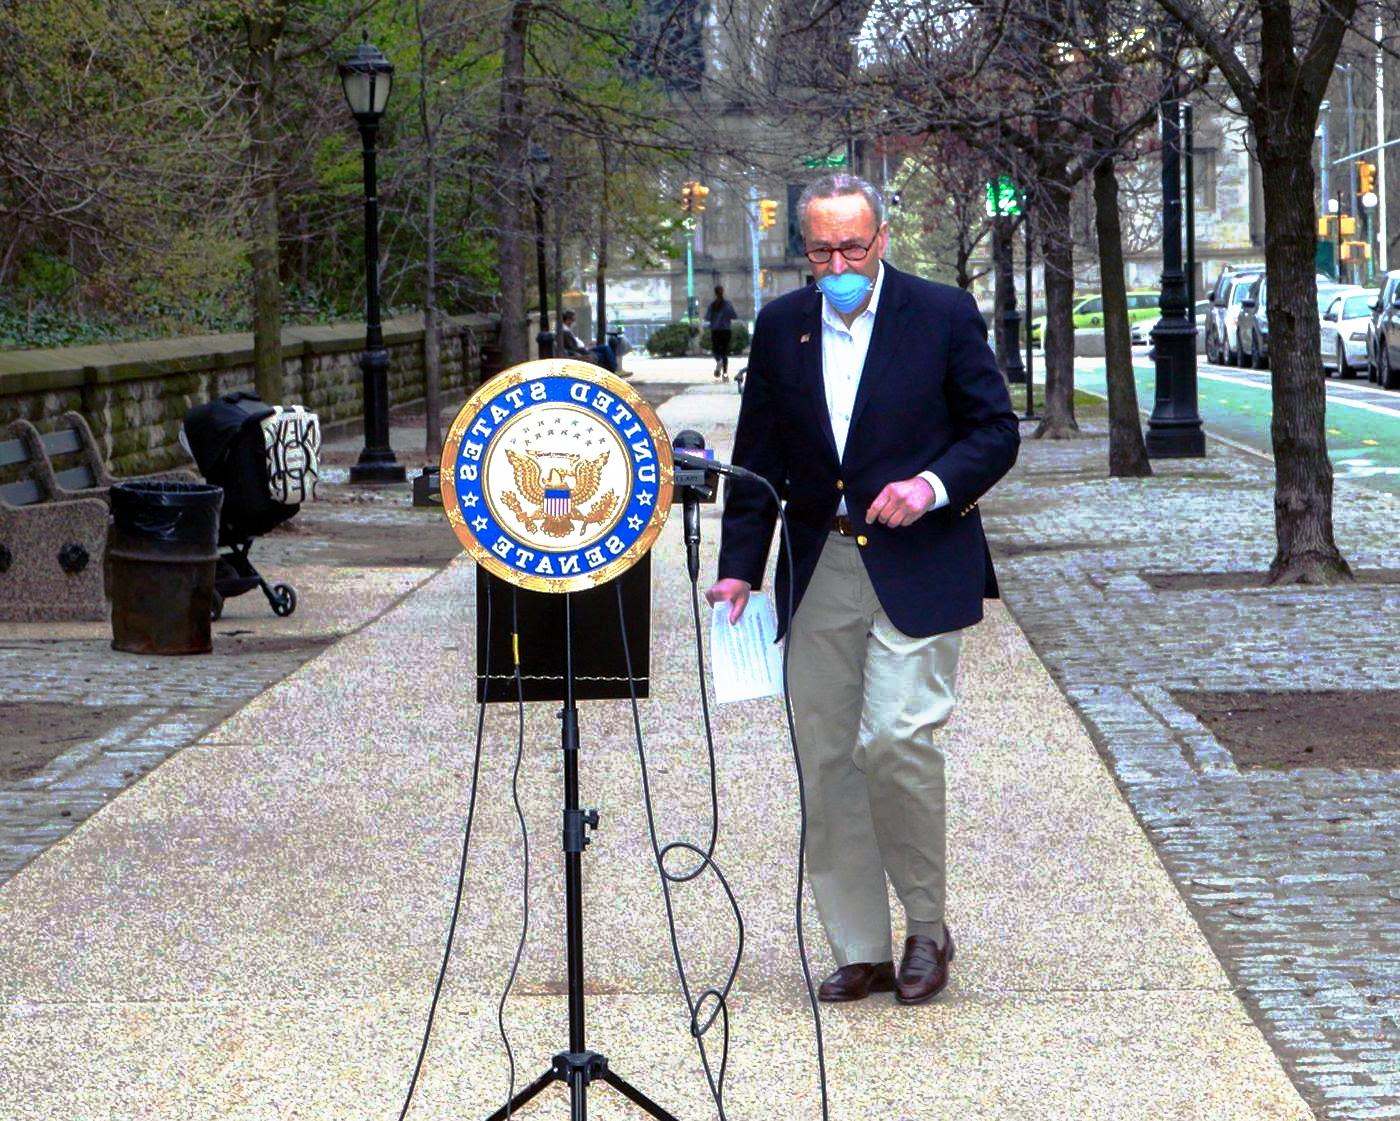mask_weared_incorrect: (795, 172, 891, 319)
